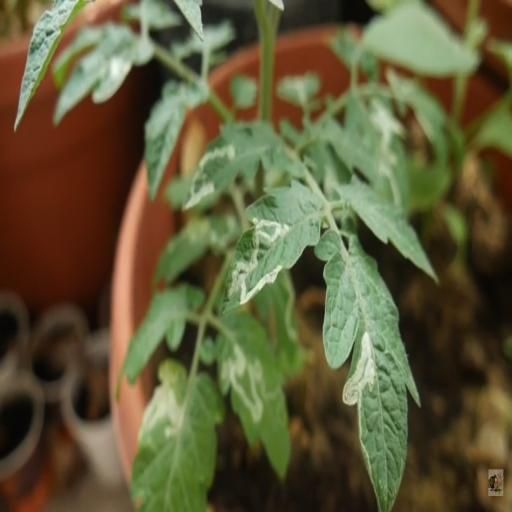Leaf Miner: (315, 226, 422, 512), (218, 173, 322, 311)
